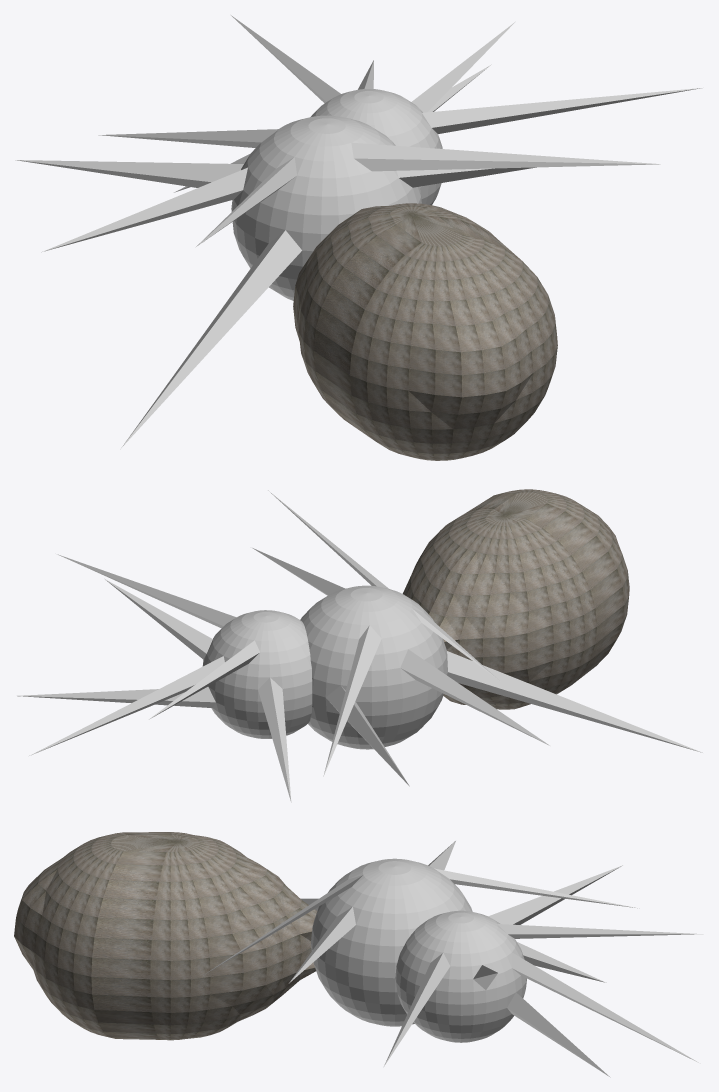
File: waterwheelseedling.dae
3 views of the same model, one above another, from view 1: azimuth 30°, elevation 25°; view 2: azimuth 150°, elevation 25°; view 3: azimuth 270°, elevation 25° (orthographic). The views are drawn at different scales.
Visible parts, largest first — view 1: Sphere; view 2: Sphere; view 3: Sphere.
Part boxes in pixels (left/top/right/bottom): Sphere: left=15, top=15, right=703, bottom=460; Sphere: left=17, top=489, right=702, bottom=802; Sphere: left=14, top=832, right=703, bottom=1077.
Bounding box in the file's own units: 6.53 × 6.63 × 2.
